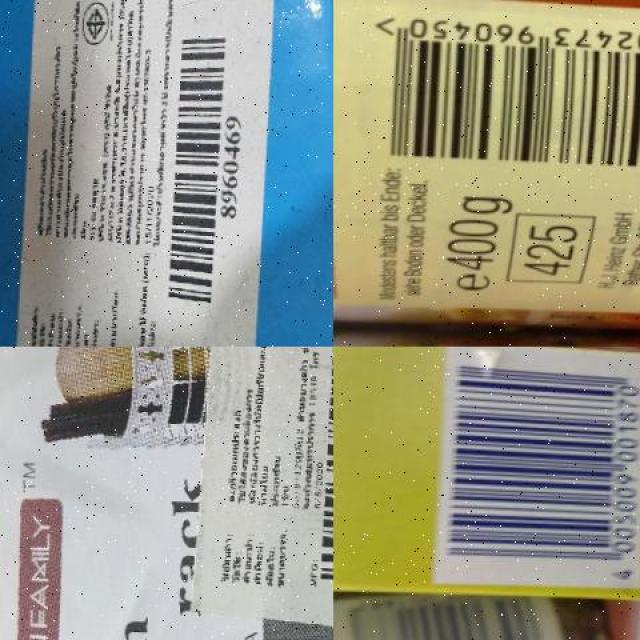Barcode: (433, 349, 640, 599), (359, 12, 640, 182), (158, 15, 242, 324), (308, 347, 333, 600)
